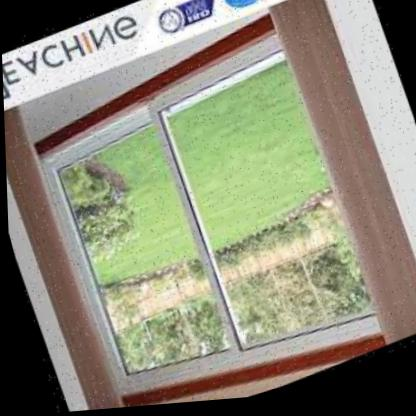Window: (2, 0, 416, 416)
